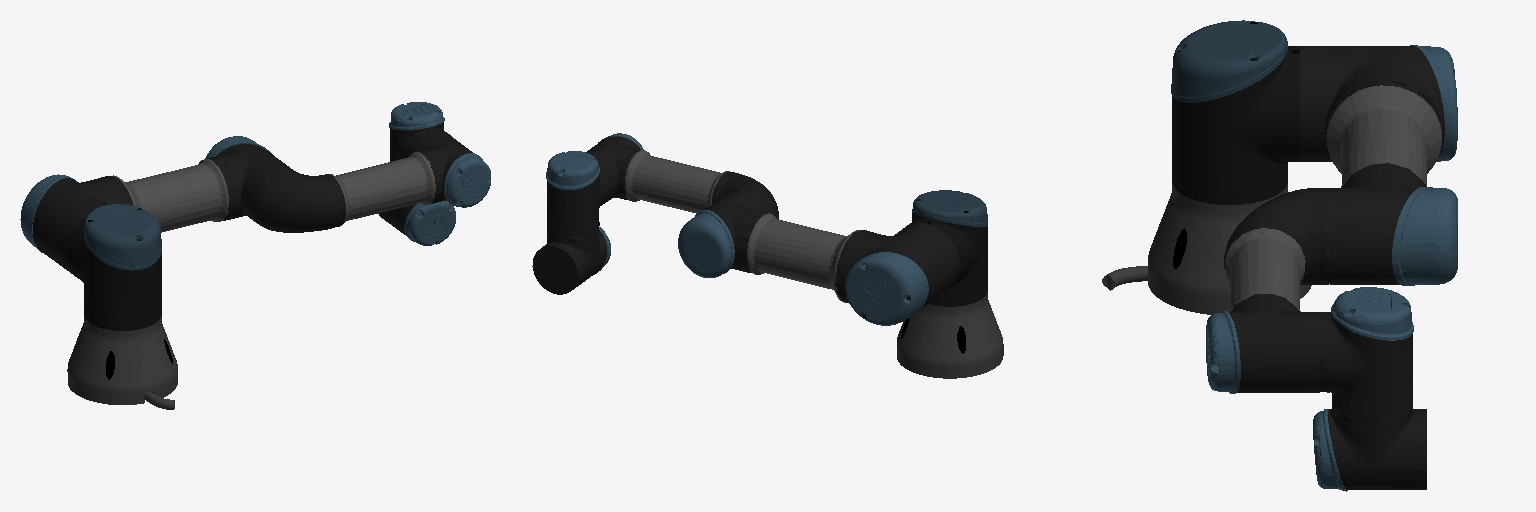
URDF robot description (ur3):
<?xml version='1.0' encoding='utf-8'?>
<robot name="ur3">
  
  
  
  <link name="world" />
  <ros2_control name="ur3" type="system">
    <hardware>
      <plugin>ur_robot_driver/URPositionHardwareInterface</plugin>
      <param name="robot_ip">0.0.0.0</param>
      <param name="script_filename" />
      <param name="output_recipe_filename" />
      <param name="input_recipe_filename" />
      <param name="headless_mode">False</param>
      <param name="reverse_port">50001</param>
      <param name="script_sender_port">50002</param>
      <param name="reverse_ip">0.0.0.0</param>
      <param name="script_command_port">50004</param>
      <param name="trajectory_port">50003</param>
      <param name="tf_prefix" />
      <param name="non_blocking_read">False</param>
      <param name="servoj_gain">2000</param>
      <param name="servoj_lookahead_time">0.03</param>
      <param name="use_tool_communication">False</param>
      <param name="kinematics/hash">calib_9122066269688285636</param>
      <param name="tool_voltage">0</param>
      <param name="tool_parity">0</param>
      <param name="tool_baud_rate">115200</param>
      <param name="tool_stop_bits">1</param>
      <param name="tool_rx_idle_chars">1.5</param>
      <param name="tool_tx_idle_chars">3.5</param>
      <param name="tool_device_name">/tmp/ttyUR</param>
      <param name="tool_tcp_port">54321</param>
      <param name="keep_alive_count">2</param>
    </hardware>
    <joint name="shoulder_pan_joint">
      <command_interface name="position">
        <param name="min">{-2*pi}</param>
        <param name="max">{2*pi}</param>
      </command_interface>
      <command_interface name="velocity">
        <param name="min">-3.15</param>
        <param name="max">3.15</param>
      </command_interface>
      <state_interface name="position">
        
        <param name="initial_value">0.0</param>
      </state_interface>
      <state_interface name="velocity">
        <param name="initial_value">0.0</param>
      </state_interface>
      <state_interface name="effort">
        <param name="initial_value">0.0</param>
      </state_interface>
    </joint>
    <joint name="shoulder_lift_joint">
      <command_interface name="position">
        <param name="min">{-2*pi}</param>
        <param name="max">{2*pi}</param>
      </command_interface>
      <command_interface name="velocity">
        <param name="min">-3.15</param>
        <param name="max">3.15</param>
      </command_interface>
      <state_interface name="position">
        
        <param name="initial_value">-1.57</param>
      </state_interface>
      <state_interface name="velocity">
        <param name="initial_value">0.0</param>
      </state_interface>
      <state_interface name="effort">
        <param name="initial_value">0.0</param>
      </state_interface>
    </joint>
    <joint name="elbow_joint">
      <command_interface name="position">
        <param name="min">{-pi}</param>
        <param name="max">{pi}</param>
      </command_interface>
      <command_interface name="velocity">
        <param name="min">-3.15</param>
        <param name="max">3.15</param>
      </command_interface>
      <state_interface name="position">
        
        <param name="initial_value">0.0</param>
      </state_interface>
      <state_interface name="velocity">
        <param name="initial_value">0.0</param>
      </state_interface>
      <state_interface name="effort">
        <param name="initial_value">0.0</param>
      </state_interface>
    </joint>
    <joint name="wrist_1_joint">
      <command_interface name="position">
        <param name="min">{-2*pi}</param>
        <param name="max">{2*pi}</param>
      </command_interface>
      <command_interface name="velocity">
        <param name="min">-3.2</param>
        <param name="max">3.2</param>
      </command_interface>
      <state_interface name="position">
        
        <param name="initial_value">-1.57</param>
      </state_interface>
      <state_interface name="velocity">
        <param name="initial_value">0.0</param>
      </state_interface>
      <state_interface name="effort">
        <param name="initial_value">0.0</param>
      </state_interface>
    </joint>
    <joint name="wrist_2_joint">
      <command_interface name="position">
        <param name="min">{-2*pi}</param>
        <param name="max">{2*pi}</param>
      </command_interface>
      <command_interface name="velocity">
        <param name="min">-3.2</param>
        <param name="max">3.2</param>
      </command_interface>
      <state_interface name="position">
        
        <param name="initial_value">0.0</param>
      </state_interface>
      <state_interface name="velocity">
        <param name="initial_value">0.0</param>
      </state_interface>
      <state_interface name="effort">
        <param name="initial_value">0.0</param>
      </state_interface>
    </joint>
    <joint name="wrist_3_joint">
      <command_interface name="position">
        <param name="min">{-2*pi}</param>
        <param name="max">{2*pi}</param>
      </command_interface>
      <command_interface name="velocity">
        <param name="min">-3.2</param>
        <param name="max">3.2</param>
      </command_interface>
      <state_interface name="position">
        
        <param name="initial_value">0.0</param>
      </state_interface>
      <state_interface name="velocity">
        <param name="initial_value">0.0</param>
      </state_interface>
      <state_interface name="effort">
        <param name="initial_value">0.0</param>
      </state_interface>
    </joint>
    <sensor name="tcp_fts_sensor">
      <state_interface name="force.x" />
      <state_interface name="force.y" />
      <state_interface name="force.z" />
      <state_interface name="torque.x" />
      <state_interface name="torque.y" />
      <state_interface name="torque.z" />
    </sensor>
    
    <gpio name="speed_scaling">
      <state_interface name="speed_scaling_factor" />
      <param name="initial_speed_scaling_factor">1</param>
      <command_interface name="target_speed_fraction_cmd" />
      <command_interface name="target_speed_fraction_async_success" />
    </gpio>
    <gpio name="gpio">
      <command_interface name="standard_digital_output_cmd_0" />
      <command_interface name="standard_digital_output_cmd_1" />
      <command_interface name="standard_digital_output_cmd_2" />
      <command_interface name="standard_digital_output_cmd_3" />
      <command_interface name="standard_digital_output_cmd_4" />
      <command_interface name="standard_digital_output_cmd_5" />
      <command_interface name="standard_digital_output_cmd_6" />
      <command_interface name="standard_digital_output_cmd_7" />
      <command_interface name="standard_digital_output_cmd_8" />
      <command_interface name="standard_digital_output_cmd_9" />
      <command_interface name="standard_digital_output_cmd_10" />
      <command_interface name="standard_digital_output_cmd_11" />
      <command_interface name="standard_digital_output_cmd_12" />
      <command_interface name="standard_digital_output_cmd_13" />
      <command_interface name="standard_digital_output_cmd_14" />
      <command_interface name="standard_digital_output_cmd_15" />
      <command_interface name="standard_digital_output_cmd_16" />
      <command_interface name="standard_digital_output_cmd_17" />
      <command_interface name="standard_analog_output_cmd_0" />
      <command_interface name="standard_analog_output_cmd_1" />
      <command_interface name="tool_voltage_cmd" />
      <command_interface name="io_async_success" />
      <state_interface name="digital_output_0" />
      <state_interface name="digital_output_1" />
      <state_interface name="digital_output_2" />
      <state_interface name="digital_output_3" />
      <state_interface name="digital_output_4" />
      <state_interface name="digital_output_5" />
      <state_interface name="digital_output_6" />
      <state_interface name="digital_output_7" />
      <state_interface name="digital_output_8" />
      <state_interface name="digital_output_9" />
      <state_interface name="digital_output_10" />
      <state_interface name="digital_output_11" />
      <state_interface name="digital_output_12" />
      <state_interface name="digital_output_13" />
      <state_interface name="digital_output_14" />
      <state_interface name="digital_output_15" />
      <state_interface name="digital_output_16" />
      <state_interface name="digital_output_17" />
      <state_interface name="digital_input_0" />
      <state_interface name="digital_input_1" />
      <state_interface name="digital_input_2" />
      <state_interface name="digital_input_3" />
      <state_interface name="digital_input_4" />
      <state_interface name="digital_input_5" />
      <state_interface name="digital_input_6" />
      <state_interface name="digital_input_7" />
      <state_interface name="digital_input_8" />
      <state_interface name="digital_input_9" />
      <state_interface name="digital_input_10" />
      <state_interface name="digital_input_11" />
      <state_interface name="digital_input_12" />
      <state_interface name="digital_input_13" />
      <state_interface name="digital_input_14" />
      <state_interface name="digital_input_15" />
      <state_interface name="digital_input_16" />
      <state_interface name="digital_input_17" />
      <state_interface name="standard_analog_output_0" />
      <state_interface name="standard_analog_output_1" />
      <state_interface name="standard_analog_input_0" />
      <state_interface name="standard_analog_input_1" />
      <state_interface name="analog_io_type_0" />
      <state_interface name="analog_io_type_1" />
      <state_interface name="analog_io_type_2" />
      <state_interface name="analog_io_type_3" />
      <state_interface name="tool_mode" />
      <state_interface name="tool_output_voltage" />
      <state_interface name="tool_output_current" />
      <state_interface name="tool_temperature" />
      <state_interface name="tool_analog_input_0" />
      <state_interface name="tool_analog_input_1" />
      <state_interface name="tool_analog_input_type_0" />
      <state_interface name="tool_analog_input_type_1" />
      <state_interface name="robot_mode" />
      <state_interface name="robot_status_bit_0" />
      <state_interface name="robot_status_bit_1" />
      <state_interface name="robot_status_bit_2" />
      <state_interface name="robot_status_bit_3" />
      <state_interface name="safety_mode" />
      <state_interface name="safety_status_bit_0" />
      <state_interface name="safety_status_bit_1" />
      <state_interface name="safety_status_bit_2" />
      <state_interface name="safety_status_bit_3" />
      <state_interface name="safety_status_bit_4" />
      <state_interface name="safety_status_bit_5" />
      <state_interface name="safety_status_bit_6" />
      <state_interface name="safety_status_bit_7" />
      <state_interface name="safety_status_bit_8" />
      <state_interface name="safety_status_bit_9" />
      <state_interface name="safety_status_bit_10" />
      <state_interface name="program_running" />
    </gpio>
    <gpio name="payload">
      <command_interface name="mass" />
      <command_interface name="cog.x" />
      <command_interface name="cog.y" />
      <command_interface name="cog.z" />
      <command_interface name="payload_async_success" />
    </gpio>
    <gpio name="resend_robot_program">
      <command_interface name="resend_robot_program_cmd" />
      <command_interface name="resend_robot_program_async_success" />
    </gpio>
    <gpio name="hand_back_control">
      <command_interface name="hand_back_control_cmd" />
      <command_interface name="hand_back_control_async_success" />
    </gpio>
    <gpio name="zero_ftsensor">
      <command_interface name="zero_ftsensor_cmd" />
      <command_interface name="zero_ftsensor_async_success" />
    </gpio>
    <gpio name="force_mode">
      <command_interface name="task_frame_x" />
      <command_interface name="task_frame_y" />
      <command_interface name="task_frame_z" />
      <command_interface name="task_frame_rx" />
      <command_interface name="task_frame_ry" />
      <command_interface name="task_frame_rz" />
      <command_interface name="selection_vector_x" />
      <command_interface name="selection_vector_y" />
      <command_interface name="selection_vector_z" />
      <command_interface name="selection_vector_rx" />
      <command_interface name="selection_vector_ry" />
      <command_interface name="selection_vector_rz" />
      <command_interface name="wrench_x" />
      <command_interface name="wrench_y" />
      <command_interface name="wrench_z" />
      <command_interface name="wrench_rx" />
      <command_interface name="wrench_ry" />
      <command_interface name="wrench_rz" />
      <command_interface name="limits_x" />
      <command_interface name="limits_y" />
      <command_interface name="limits_z" />
      <command_interface name="limits_rx" />
      <command_interface name="limits_ry" />
      <command_interface name="limits_rz" />
      <command_interface name="type" />
      <command_interface name="disable_cmd" />
      <command_interface name="force_mode_async_success" />
      <command_interface name="damping" />
      <command_interface name="gain_scaling" />
    </gpio>
    <gpio name="system_interface">
      <state_interface name="initialized" />
    </gpio>
  </ros2_control>
  
  
  
  
  <link name="base_link" />
  <link name="base_link_inertia">
    <visual>
      <origin rpy="0 0 3.141592653589793" xyz="0 0 0" />
      <geometry>
        <mesh filename="meshes/base.dae" />
      </geometry>
    </visual>
    <collision>
      <origin rpy="0 0 3.141592653589793" xyz="0 0 0" />
      <geometry>
        <mesh filename="meshes/base.stl" />
      </geometry>
    </collision>
    <inertial>
      <mass value="2.0" />
      <origin rpy="0 0 0" xyz="0 0 0" />
      <inertia ixx="0.0030531654454" ixy="0.0" ixz="0.0" iyy="0.0030531654454" iyz="0.0" izz="0.005625" />
    </inertial>
  </link>
  <link name="shoulder_link">
    <visual>
      <origin rpy="0 0 3.141592653589793" xyz="0 0 0" />
      <geometry>
        <mesh filename="meshes/shoulder.dae" />
      </geometry>
    </visual>
    <collision>
      <origin rpy="0 0 3.141592653589793" xyz="0 0 0" />
      <geometry>
        <mesh filename="meshes/shoulder.stl" />
      </geometry>
    </collision>
    <inertial>
      <mass value="2.0" />
      <origin rpy="0 0 0" xyz="0 0 0" />
      <inertia ixx="0.008093163429399999" ixy="0.0" ixz="0.0" iyy="0.008093163429399999" iyz="0.0" izz="0.005625" />
    </inertial>
  </link>
  <link name="upper_arm_link">
    <visual>
      <origin rpy="1.5707963267948966 0 -1.5707963267948966" xyz="0 0 0.1198" />
      <geometry>
        <mesh filename="meshes/upperarm.dae" />
      </geometry>
    </visual>
    <collision>
      <origin rpy="1.5707963267948966 0 -1.5707963267948966" xyz="0 0 0.1198" />
      <geometry>
        <mesh filename="meshes/upperarm.stl" />
      </geometry>
    </collision>
    <inertial>
      <mass value="3.42" />
      <origin rpy="0 1.5707963267948966 0" xyz="-0.121825 0.0 0.12" />
      <inertia ixx="0.021728483221103233" ixy="0.0" ixz="0.0" iyy="0.021728483221103233" iyz="0.0" izz="0.00961875" />
    </inertial>
  </link>
  <link name="forearm_link">
    <visual>
      <origin rpy="1.5707963267948966 0 -1.5707963267948966" xyz="0 0 0.0275" />
      <geometry>
        <mesh filename="meshes/forearm.dae" />
      </geometry>
    </visual>
    <collision>
      <origin rpy="1.5707963267948966 0 -1.5707963267948966" xyz="0 0 0.0275" />
      <geometry>
        <mesh filename="meshes/forearm.stl" />
      </geometry>
    </collision>
    <inertial>
      <mass value="1.26" />
      <origin rpy="0 1.5707963267948966 0" xyz="-0.106625 0.0 0.0275" />
      <inertia ixx="0.006546806443776375" ixy="0.0" ixz="0.0" iyy="0.006546806443776375" iyz="0.0" izz="0.00354375" />
    </inertial>
  </link>
  <link name="wrist_1_link">
    <visual>
      <origin rpy="1.5707963267948966 0 0" xyz="0 0 -0.085" />
      <geometry>
        <mesh filename="meshes/wrist1.dae" />
      </geometry>
    </visual>
    <collision>
      <origin rpy="1.5707963267948966 0 0" xyz="0 0 -0.085" />
      <geometry>
        <mesh filename="meshes/wrist1.stl" />
      </geometry>
    </collision>
    <inertial>
      <mass value="0.8" />
      <origin rpy="0 0 0" xyz="0 0 0" />
      <inertia ixx="0.0016106408557434" ixy="0.0" ixz="0.0" iyy="0.0016106408557434" iyz="0.0" izz="0.00225" />
    </inertial>
  </link>
  <link name="wrist_2_link">
    <visual>
      <origin rpy="0 0 0" xyz="0 0 -0.085" />
      <geometry>
        <mesh filename="meshes/wrist2.dae" />
      </geometry>
    </visual>
    <collision>
      <origin rpy="0 0 0" xyz="0 0 -0.085" />
      <geometry>
        <mesh filename="meshes/wrist2.stl" />
      </geometry>
    </collision>
    <inertial>
      <mass value="0.8" />
      <origin rpy="0 0 0" xyz="0 0 0" />
      <inertia ixx="0.0015721733711303997" ixy="0.0" ixz="0.0" iyy="0.0015721733711303997" iyz="0.0" izz="0.00225" />
    </inertial>
  </link>
  <link name="wrist_3_link">
    <visual>
      <origin rpy="1.5707963267948966 0 0" xyz="0 0 -0.082" />
      <geometry>
        <mesh filename="meshes/wrist3.dae" />
      </geometry>
    </visual>
    <collision>
      <origin rpy="1.5707963267948966 0 0" xyz="0 0 -0.082" />
      <geometry>
        <mesh filename="meshes/wrist3.stl" />
      </geometry>
    </collision>
    <inertial>
      <mass value="0.35" />
      <origin rpy="0 0 0" xyz="0.0 0.0 -0.02" />
      <inertia ixx="0.00013626661215999998" ixy="0.0" ixz="0.0" iyy="0.00013626661215999998" iyz="0.0" izz="0.0001792" />
    </inertial>
  </link>
  
  <joint name="base_joint" type="fixed">
    <origin rpy="0 0 0" xyz="0 0 0" />
    <parent link="world" />
    <child link="base_link" />
  </joint>
  
  <joint name="base_link-base_link_inertia" type="fixed">
    <parent link="base_link" />
    <child link="base_link_inertia" />
    
    <origin rpy="0 0 3.141592653589793" xyz="0 0 0" />
  </joint>
  <joint name="shoulder_pan_joint" type="revolute">
    <parent link="base_link_inertia" />
    <child link="shoulder_link" />
    <origin rpy="0 0 0" xyz="0 0 0.1519" />
    <axis xyz="0 0 1" />
    <limit effort="56.0" lower="-6.283185307179586" upper="6.283185307179586" velocity="3.141592653589793" />
    <dynamics damping="0" friction="0" />
  </joint>
  <joint name="shoulder_lift_joint" type="revolute">
    <parent link="shoulder_link" />
    <child link="upper_arm_link" />
    <origin rpy="1.570796327 0 0" xyz="0 0 0" />
    <axis xyz="0 0 1" />
    <limit effort="56.0" lower="-6.283185307179586" upper="6.283185307179586" velocity="3.141592653589793" />
    <dynamics damping="0" friction="0" />
  </joint>
  <joint name="elbow_joint" type="revolute">
    <parent link="upper_arm_link" />
    <child link="forearm_link" />
    <origin rpy="0 0 0" xyz="-0.24365 0 0" />
    <axis xyz="0 0 1" />
    <limit effort="28.0" lower="-3.141592653589793" upper="3.141592653589793" velocity="3.141592653589793" />
    <dynamics damping="0" friction="0" />
  </joint>
  <joint name="wrist_1_joint" type="revolute">
    <parent link="forearm_link" />
    <child link="wrist_1_link" />
    <origin rpy="0 0 0" xyz="-0.21325 0 0.11235" />
    <axis xyz="0 0 1" />
    <limit effort="12.0" lower="-6.283185307179586" upper="6.283185307179586" velocity="6.283185307179586" />
    <dynamics damping="0" friction="0" />
  </joint>
  <joint name="wrist_2_joint" type="revolute">
    <parent link="wrist_1_link" />
    <child link="wrist_2_link" />
    <origin rpy="1.570796327 0 0" xyz="0 -0.08535 -1.750557762378351e-11" />
    <axis xyz="0 0 1" />
    <limit effort="12.0" lower="-6.283185307179586" upper="6.283185307179586" velocity="6.283185307179586" />
    <dynamics damping="0" friction="0" />
  </joint>
  <joint name="wrist_3_joint" type="revolute">
    <parent link="wrist_2_link" />
    <child link="wrist_3_link" />
    <origin rpy="1.570796326589793 3.141592653589793 3.141592653589793" xyz="0 0.0819 -1.679797079540562e-11" />
    <axis xyz="0 0 1" />
    <limit effort="12.0" lower="-6.283185307179586" upper="6.283185307179586" velocity="6.283185307179586" />
    <dynamics damping="0" friction="0" />
  </joint>
  <link name="ft_frame" />
  <joint name="wrist_3_link-ft_frame" type="fixed">
    <parent link="wrist_3_link" />
    <child link="ft_frame" />
    <origin rpy="3.141592653589793 0 0" xyz="0 0 0" />
  </joint>
  
  <link name="base" />
  <joint name="base_link-base_fixed_joint" type="fixed">
    
    <origin rpy="0 0 3.141592653589793" xyz="0 0 0" />
    <parent link="base_link" />
    <child link="base" />
  </joint>
  
  <link name="flange" />
  <joint name="wrist_3-flange" type="fixed">
    <parent link="wrist_3_link" />
    <child link="flange" />
    <origin rpy="0 -1.5707963267948966 -1.5707963267948966" xyz="0 0 0" />
  </joint>
  
  <link name="tool0" />
  <joint name="flange-tool0" type="fixed">
    
    <origin rpy="1.5707963267948966 0 1.5707963267948966" xyz="0 0 0" />
    <parent link="flange" />
    <child link="tool0" />
  </joint>
</robot>

--- Facts derived from the render (not from the file) ---
Views: 3 orthographic renders of the robot side by side, from view 1: azimuth 30°, elevation 25°; view 2: azimuth 150°, elevation 25°; view 3: azimuth 270°, elevation 25°.
Robot: ur3 — 13 links, 12 joints (6 revolute, 6 fixed); root link world; default pose: every joint at zero.
Visible links, largest first — view 1: forearm_link, upper_arm_link, shoulder_link, base_link_inertia, wrist_2_link, wrist_1_link; view 2: upper_arm_link, forearm_link, base_link_inertia, shoulder_link, wrist_1_link, wrist_2_link; view 3: upper_arm_link, shoulder_link, forearm_link, wrist_1_link, base_link_inertia, wrist_2_link.
Boxes of the visible links, x1=… form: forearm_link: x1=247, y1=132, x2=490, y2=232; upper_arm_link: x1=20, y1=136, x2=289, y2=273; shoulder_link: x1=66, y1=204, x2=161, y2=330; base_link_inertia: x1=67, y1=316, x2=177, y2=409; wrist_2_link: x1=378, y1=201, x2=455, y2=245; wrist_1_link: x1=389, y1=102, x2=451, y2=161; upper_arm_link: x1=678, y1=190, x2=959, y2=325; forearm_link: x1=586, y1=133, x2=778, y2=219; base_link_inertia: x1=897, y1=292, x2=1003, y2=378; shoulder_link: x1=907, y1=190, x2=987, y2=306; wrist_1_link: x1=546, y1=151, x2=612, y2=236; wrist_2_link: x1=532, y1=227, x2=610, y2=294; upper_arm_link: x1=1300, y1=45, x2=1457, y2=285; shoulder_link: x1=1171, y1=20, x2=1299, y2=204; forearm_link: x1=1206, y1=188, x2=1319, y2=393; wrist_1_link: x1=1320, y1=287, x2=1413, y2=418; base_link_inertia: x1=1102, y1=183, x2=1311, y2=314; wrist_2_link: x1=1313, y1=403, x2=1426, y2=491.
Size in the robot's own frame: 0.5531 by 0.2765 by 0.2097 metres.
6 mesh visuals loaded from 7 distinct referenced files (6 Collada DAE); not drawn: 1 (reference not matched to a file when rendering).
